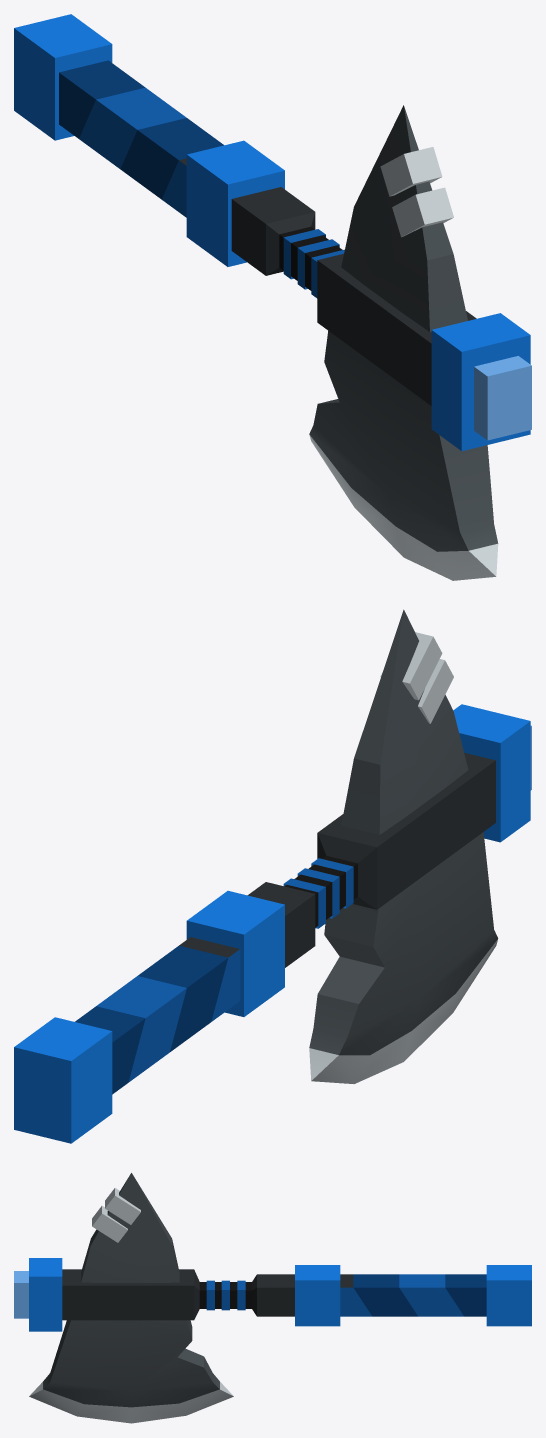
Rendered from Axe 01.FBX.
3 renders of one model, top to bottom at view 1: azimuth 30°, elevation 25°; view 2: azimuth 150°, elevation 25°; view 3: azimuth 270°, elevation 25°, orthographic. The views are drawn at different scales.
Visible parts, largest first — view 1: Axe 01; view 2: Axe 01; view 3: Axe 01.
Part boxes in pixels (box(x1,y1,x2,y2)): Axe 01: box(14, 14, 531, 580); Axe 01: box(14, 609, 531, 1143); Axe 01: box(14, 1173, 531, 1423).
Bounding box in the file's own units: 8.16 × 51.2 × 95.73.
1 material, 1 textured.
